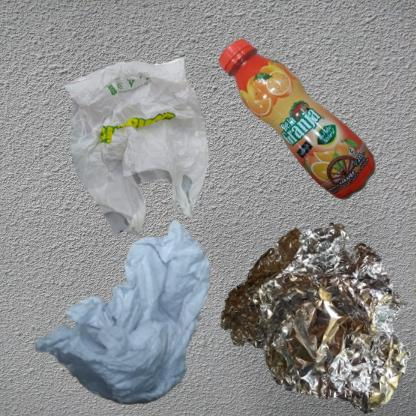aluminio: (213, 213, 416, 416)
bolsa: (10, 10, 290, 296)
botella: (213, 10, 416, 299)
papel: (10, 213, 256, 416)
